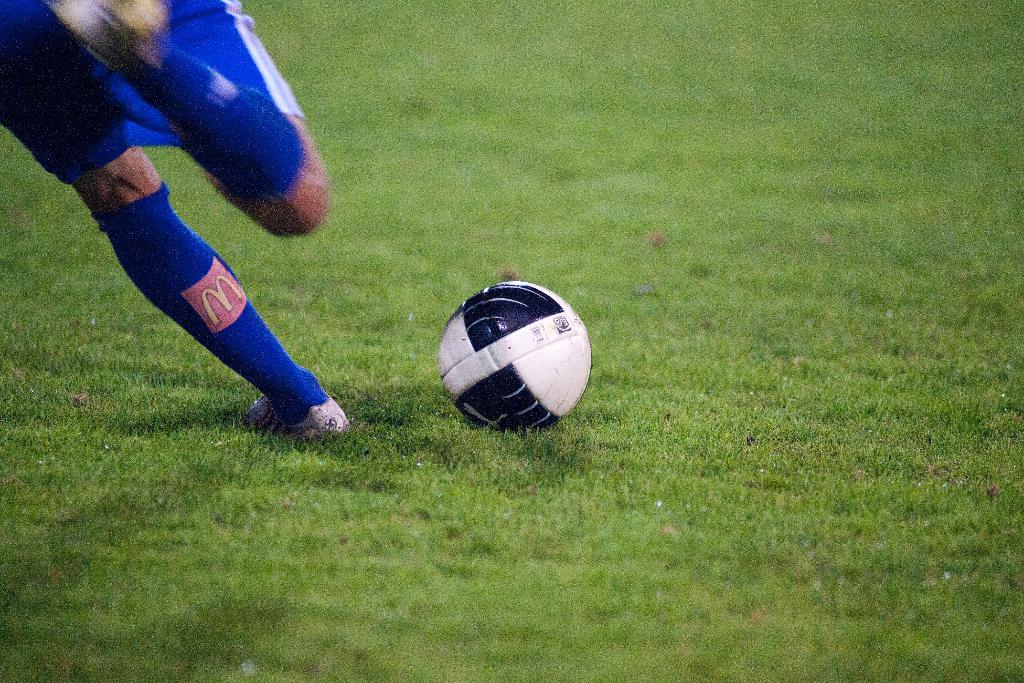Ball: (440, 280, 593, 429)
